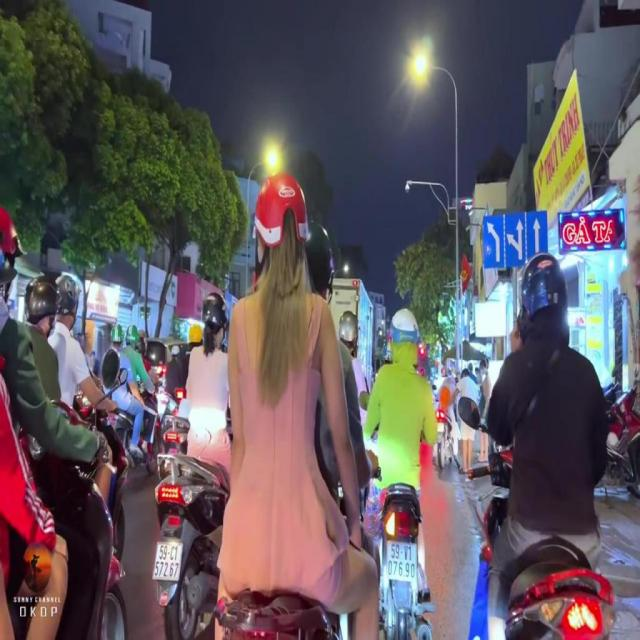huong_di_tren_moi_lan_duong_theo_vach_ke_duong: (484, 212, 547, 268)
